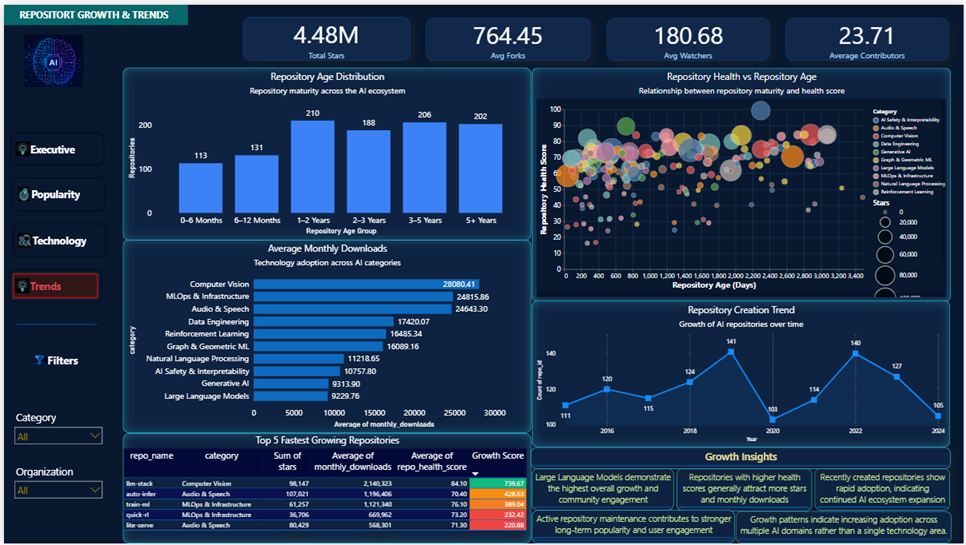

The dashboard page shown, as its layout file describes it:
{"tool":"powerbi","page":{"name":"04. Trends","canvas":[1920,1080],"ordinal":3},"visuals":[{"type":"textbox","box":[0,0,367.9,41.1],"z":0},{"type":"actionButton","box":[13.1,256.1,186.1,64.9],"z":0},{"type":"card","fields":{"Values":["My Measures.Total Stars"]},"box":[477.8,23.5,335.2,87.7],"z":1000,"group":"g1"},{"type":"image","box":[25.3,59.7,148.4,105],"z":1000},{"type":"actionButton","box":[15.4,345.8,186.1,67.1],"z":1000},{"type":"group","id":"g1","title":"Group 2","box":[477.8,23.5,1413.3,88.7],"z":2000},{"type":"card","fields":{"Values":["My Measures.Average Forks"]},"box":[844.8,25.6,329.4,86.2],"z":2000,"group":"g1"},{"type":"actionButton","box":[17.7,437.5,186.1,67.1],"z":2000},{"type":"card","fields":{"Values":["My Measures.Average Watchers"]},"box":[1205.9,25.3,326.5,86.2],"z":3000,"group":"g1"},{"type":"actionButton","box":[10.8,529.3,186.1,65.8],"z":3000},{"type":"card","fields":{"Values":["My Measures.Average Contributors"]},"box":[1564.1,25,326.5,86.2],"z":4000,"group":"g1"},{"type":"shape","box":[26,627.6,160.1,23.8],"z":4000},{"type":"actionButton","box":[10.8,675.2,190.4,69.3],"z":5000},{"type":"slicer","title":"Category","fields":{"Values":["Repositoties.category"]},"box":[15.1,811.6,186.1,90.9],"z":6000},{"type":"slicer","title":"Organization","fields":{"Values":["Repositoties.organization"]},"box":[15.1,919.8,186.1,71.4],"z":7000},{"type":"clusteredBarChart","title":"Average Monthly Downloads","fields":{"Category":["Repositories.category"],"Y":["Avg(Repositories.monthly_downloads)"]},"box":[237.3,470.8,817,387.1],"z":9000},{"type":"clusteredColumnChart","title":"Repository Age Distribution","fields":{"Category":["Repositories.Repository Age Group"],"Y":["CountNonNull(Repositories.repo_id)"]},"box":[238.2,126.2,816.9,345.3],"z":10000},{"type":"deneb7E15AEF80B9E4D4F8E12924291ECE89A","title":"Repository Health vs Repository Age","fields":{"dataset":["Repositories.repo_name","Repositories.repo_age_days","Repositories.repo_health_score","Repositories.stars","Repositories.category","Repositories.forks","Repositories.watchers","Repositories.monthly_downloads"]},"box":[1055,126.2,838.3,469.2],"z":11000},{"type":"lineChart","title":"Repository Creation Trend","fields":{"Category":["Repositories.first_commit_date.Variation.Date Hierarchy.Year","Repositories.first_commit_date.Variation.Date Hierarchy.Month"],"Y":["CountNonNull(Repositories.repo_id)"]},"box":[1056.3,591.4,836.5,293.7],"z":12000},{"type":"tableEx","title":"Top 5 Fastest Growing Repositories","fields":{"Values":["Repositories.repo_name","Repositories.category","Sum(Repositories.stars)","Avg(Repositories.monthly_downloads)","Avg(Repositories.repo_health_score)","My Measures.Growth Score"]},"box":[237.3,857.9,817,219.8],"z":13000},{"type":"shape","title":"Large Language Models demonstrate the highest overall growth and community engagement","box":[1056.3,927.5,284,83.9],"z":15000,"group":"g2"},{"type":"shape","title":"Recently created repositories show rapid adoption, indicating continued AI ecosystem expansion","box":[1622.4,927.5,270.3,83.9],"z":16001,"group":"g2"},{"type":"shape","title":"Growth patterns indicate increasing adoption across multiple AI domains rather than a single technology area.","box":[1463.7,1013.3,431,64.4],"z":16002,"group":"g2"},{"type":"shape","title":"Repositories with higher health scores generally attract more stars and monthly downloads","box":[1346.2,927.5,270.3,85.8],"z":16003,"group":"g2"},{"type":"shape","title":"Active repository maintenance contributes to stronger long-term popularity and user engagement","box":[1055.6,1011.3,406.6,66.1],"z":16004,"group":"g2"},{"type":"shape","title":"Growth Insights","box":[1054.3,885.1,839.8,43.4],"z":16005,"group":"g2"},{"type":"group","id":"g2","title":"Group 4","box":[1054.3,885.1,840.4,192.6],"z":16006}]}

Visuals, with their boxes in screenshot pixels (x1, y1, x2, y2), scaled from the page's 1920x1080 canvas onto the 966x545 screenshot:
textbox: bbox=(0, 0, 185, 21)
actionButton: bbox=(7, 129, 100, 162)
card - My Measures.Total Stars: bbox=(240, 12, 409, 56)
image: bbox=(13, 30, 87, 83)
actionButton: bbox=(8, 175, 101, 208)
"Group 2" group: bbox=(240, 12, 951, 57)
card - My Measures.Average Forks: bbox=(425, 13, 591, 56)
actionButton: bbox=(9, 221, 103, 255)
card - My Measures.Average Watchers: bbox=(607, 13, 771, 56)
actionButton: bbox=(5, 267, 99, 300)
card - My Measures.Average Contributors: bbox=(787, 13, 951, 56)
shape: bbox=(13, 317, 94, 329)
actionButton: bbox=(5, 341, 101, 376)
"Category" slicer: bbox=(8, 410, 101, 455)
"Organization" slicer: bbox=(8, 464, 101, 500)
"Average Monthly Downloads" clusteredBarChart: bbox=(119, 238, 530, 433)
"Repository Age Distribution" clusteredColumnChart: bbox=(120, 64, 531, 238)
"Repository Health vs Repository Age" deneb7E15AEF80B9E4D4F8E12924291ECE89A: bbox=(531, 64, 953, 300)
"Repository Creation Trend" lineChart: bbox=(531, 298, 952, 447)
"Top 5 Fastest Growing Repositories" tableEx: bbox=(119, 433, 530, 544)
"Large Language Models demonstrate the highest overall growth and community engagement" shape: bbox=(531, 468, 674, 510)
"Recently created repositories show rapid adoption, indicating continued AI ecosystem expansion" shape: bbox=(816, 468, 952, 510)
"Growth patterns indicate increasing adoption across multiple AI domains rather than a single technology area." shape: bbox=(736, 511, 953, 544)
"Repositories with higher health scores generally attract more stars and monthly downloads" shape: bbox=(677, 468, 813, 511)
"Active repository maintenance contributes to stronger long-term popularity and user engagement" shape: bbox=(531, 510, 736, 544)
"Growth Insights" shape: bbox=(530, 447, 953, 469)
"Group 4" group: bbox=(530, 447, 953, 544)
